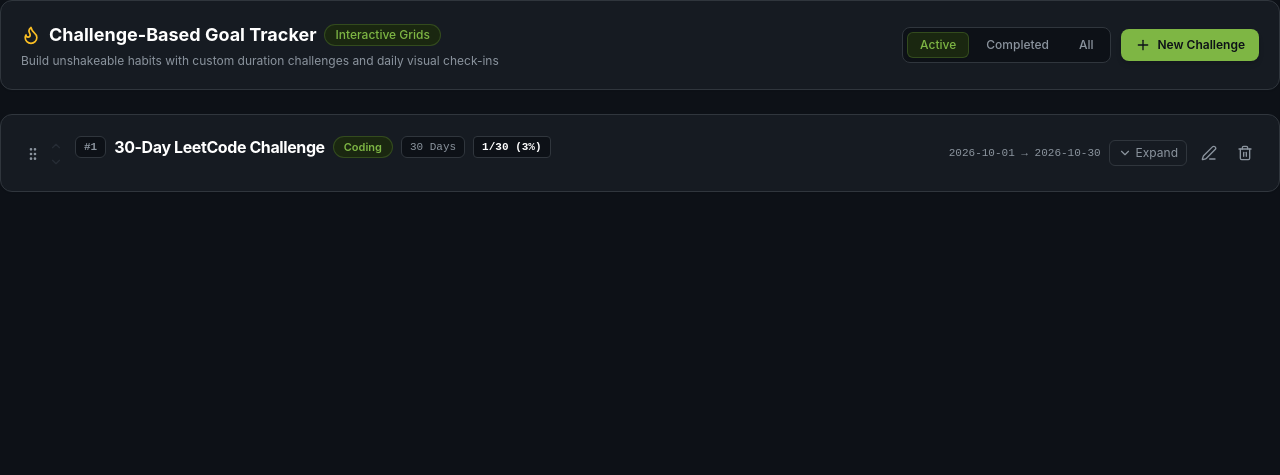
Test: ChallengeTracker Component › renders Day-by-Day check-in buttons
The width and height of the screenshot is (1280, 475).
Click the button titled "Maximize Challenge Grid". click: (1148, 153)
box: [1109,140,1187,166]
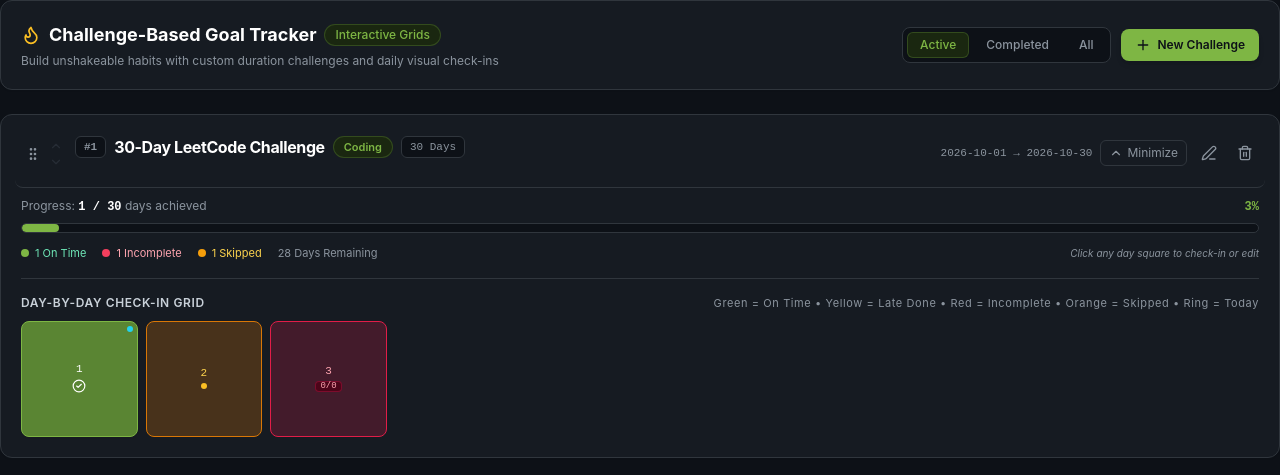
Expected: the text "Day-by-Day Check-in Grid" is shown, [21,294,205,310]
Expected: the text "1" is shown, [76,364,83,375]
Expected: the text "2" is shown, [201,368,207,379]
